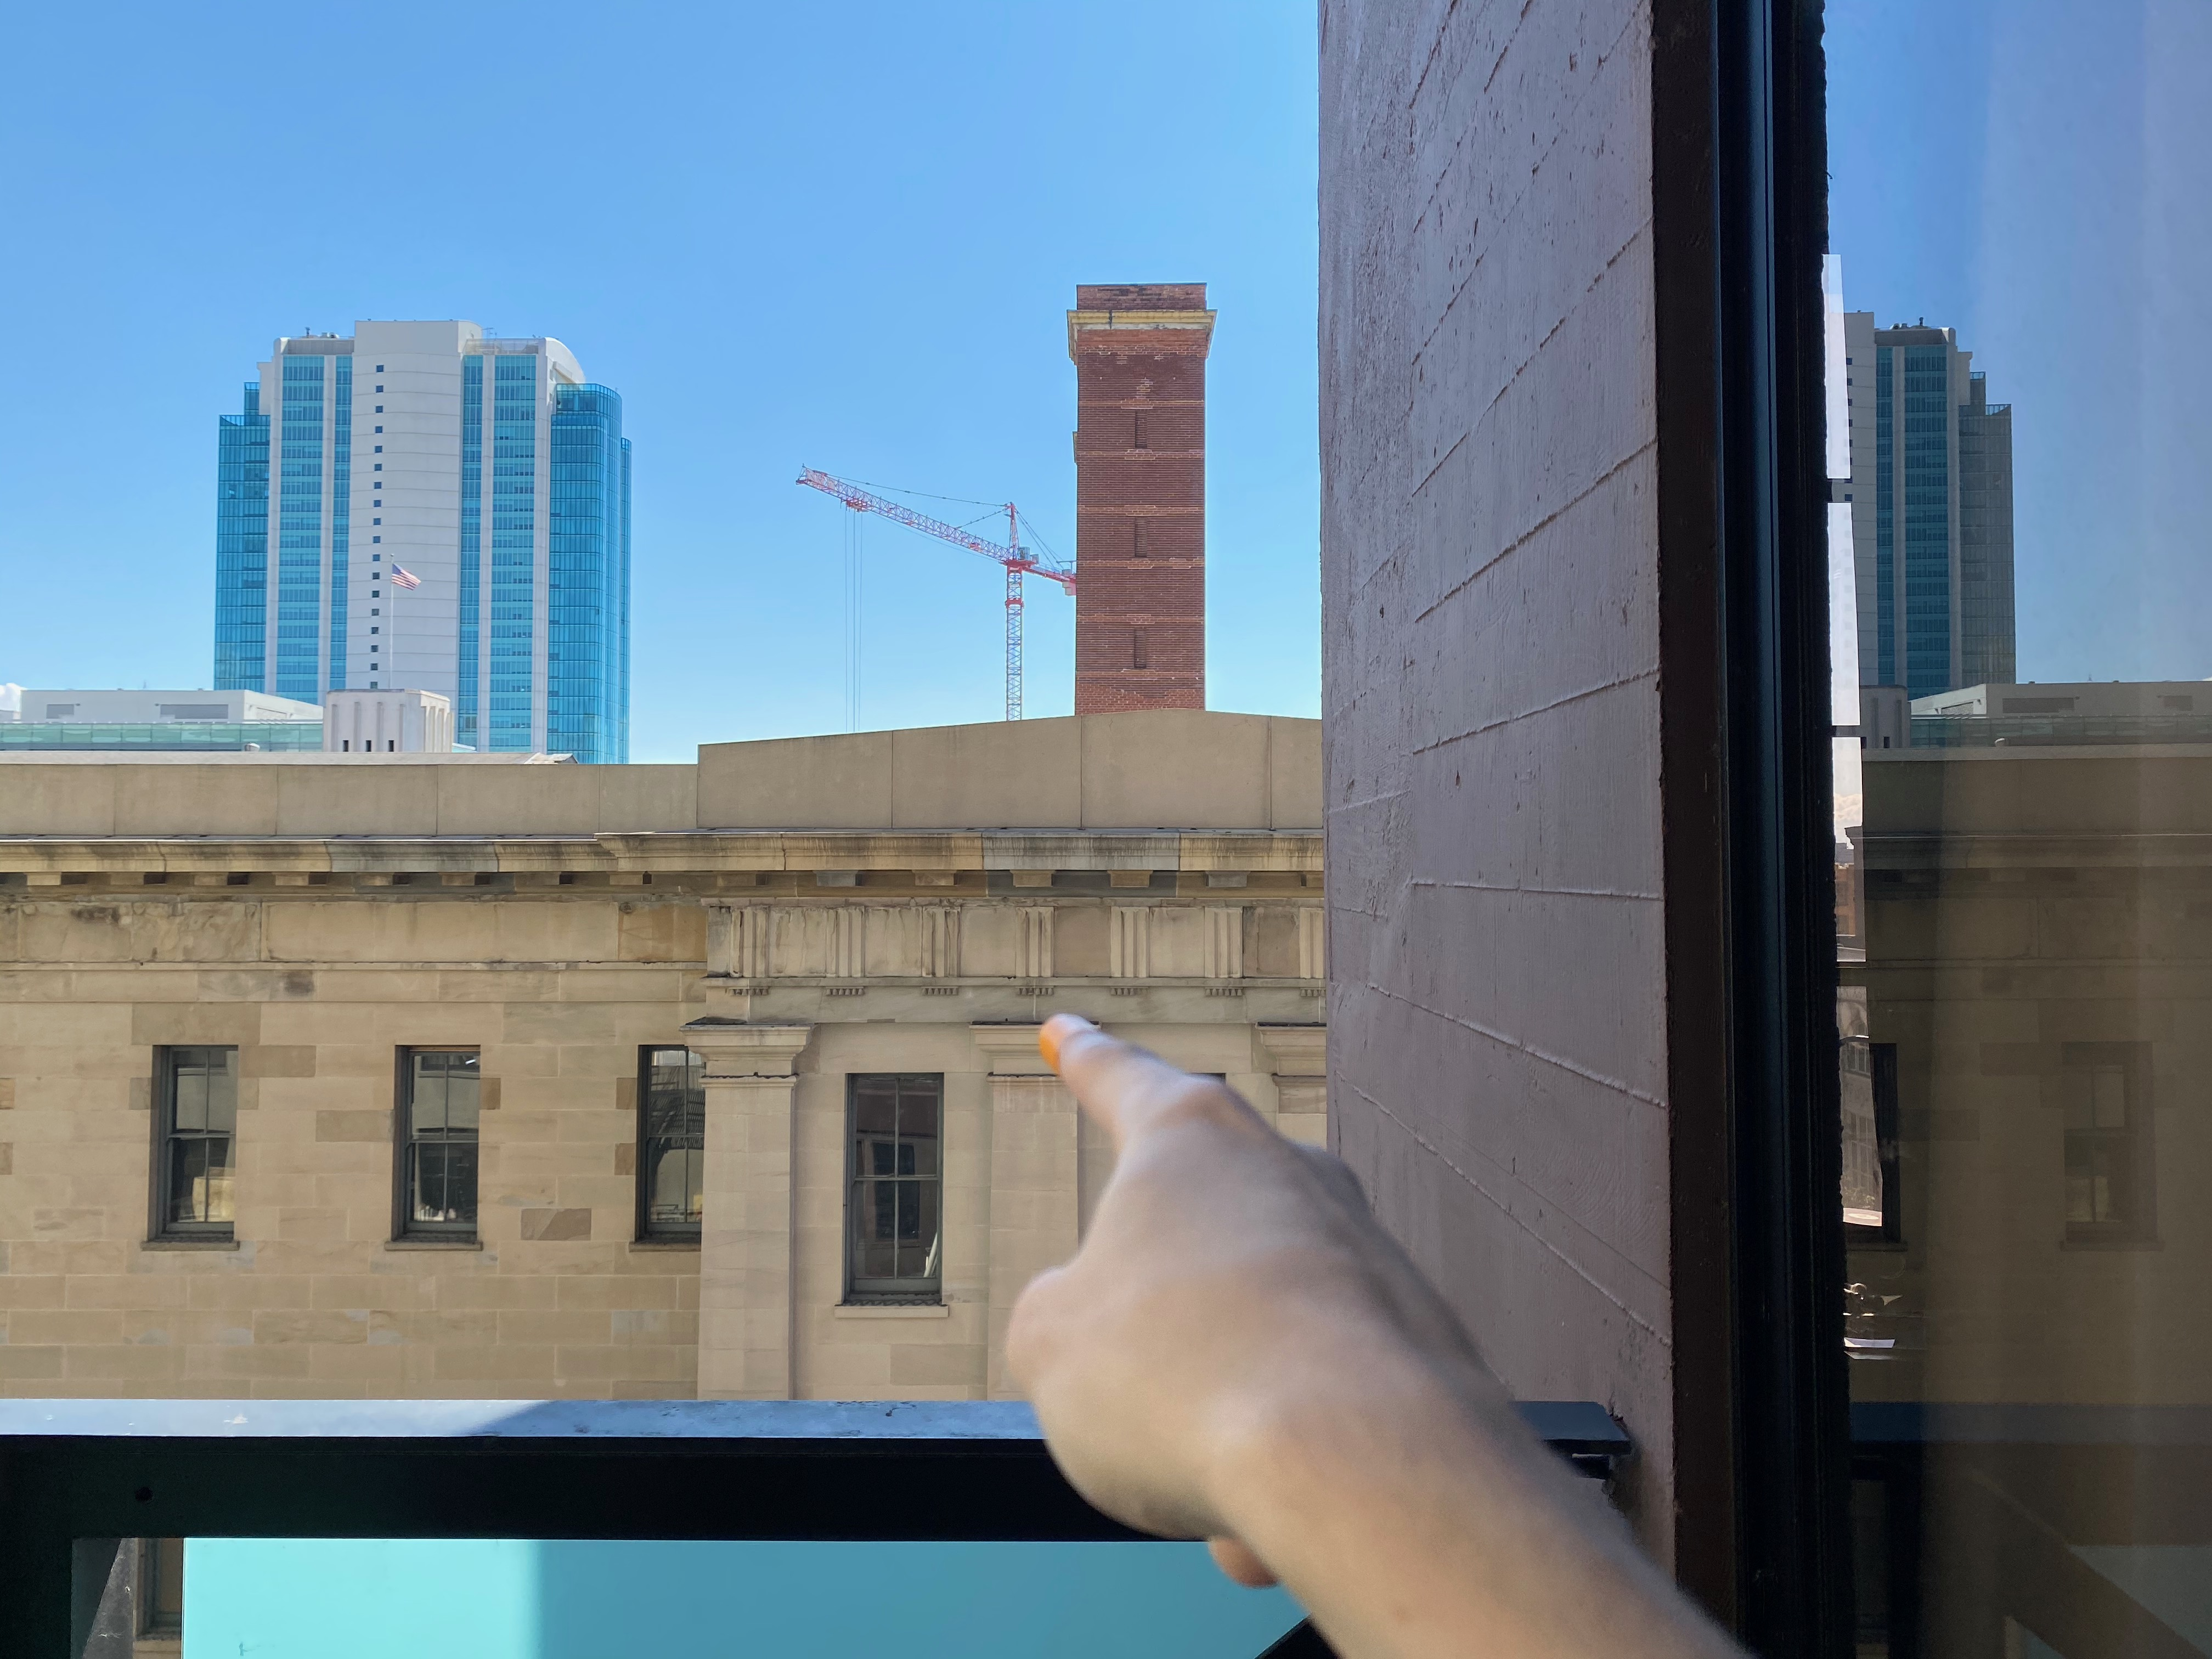fingertip: (1021, 990, 1116, 1075)
